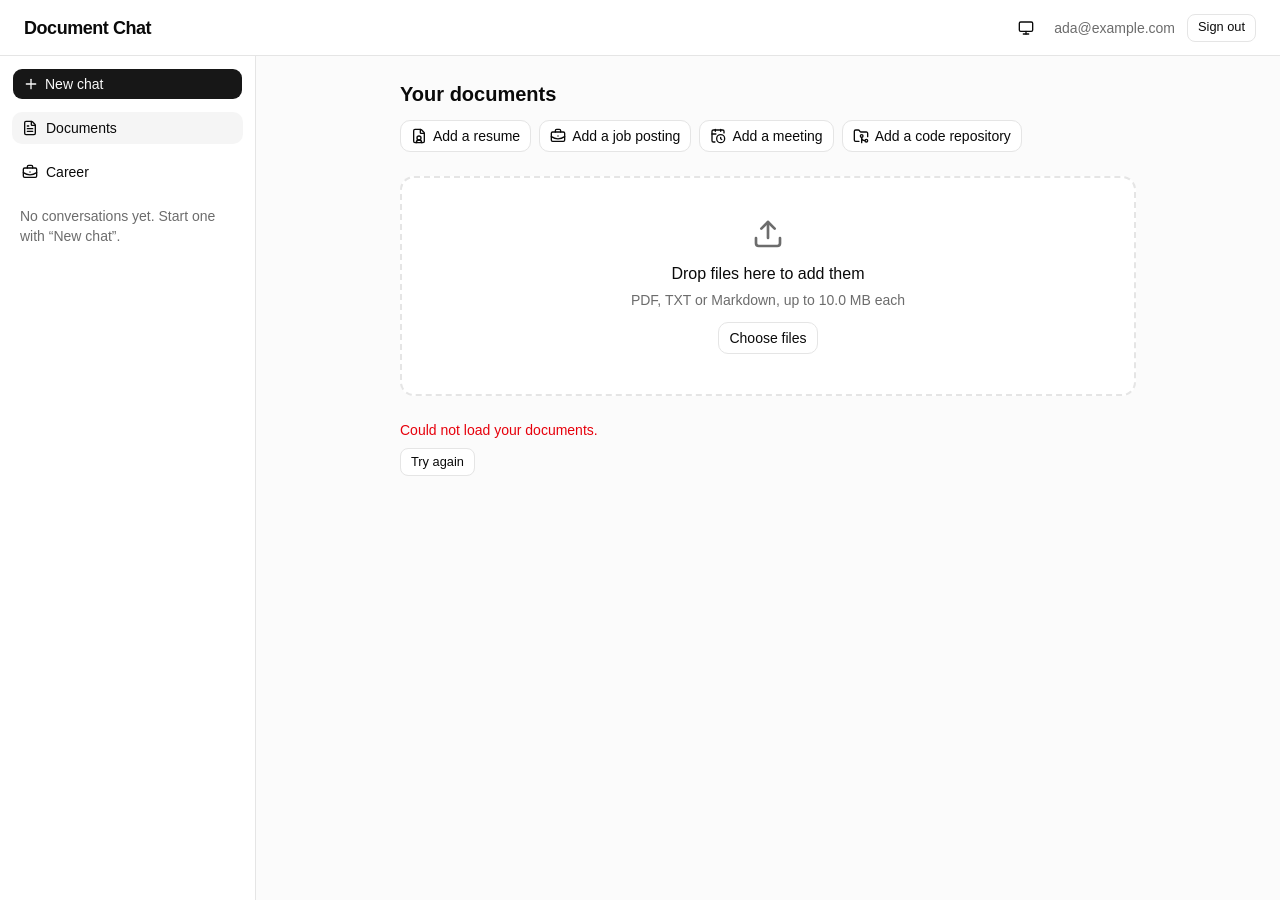
documents page › listing › offers another try when the list cannot be loaded
Expected: the text "Could not load your documents." is shown, left=400, top=420, right=598, bottom=440
Click the button "Try again". click: [437, 462]
box: left=400, top=448, right=475, bottom=476
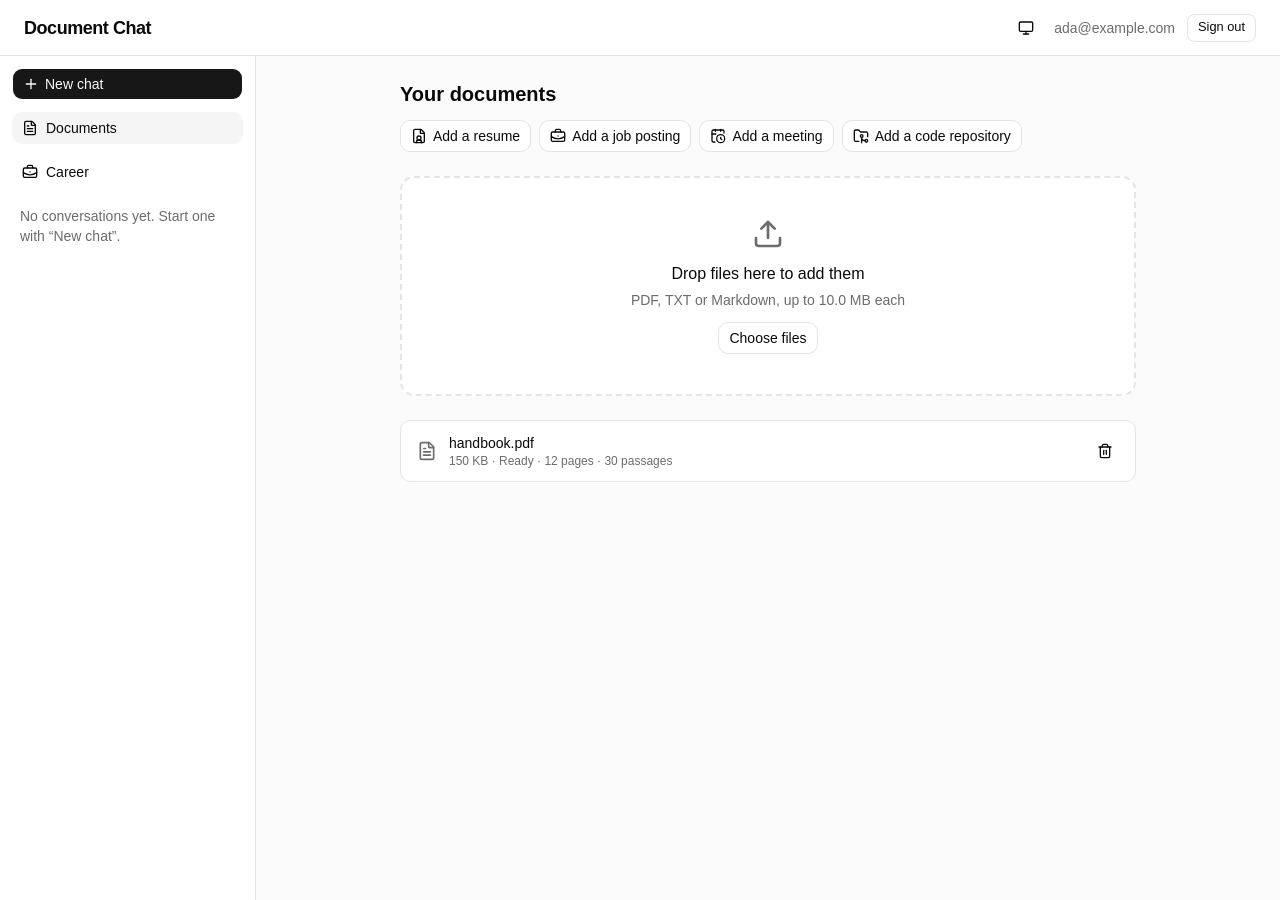
Now the text "handbook.pdf" is shown, box left=449, top=435, right=534, bottom=451
